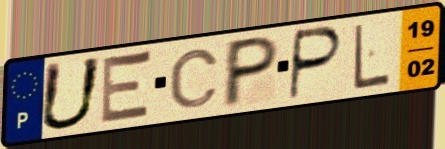C: (167, 47, 222, 111)
E: (98, 47, 156, 127)
L: (353, 21, 392, 93)
P: (219, 33, 283, 111), (286, 24, 346, 103)
U: (36, 54, 106, 133)
